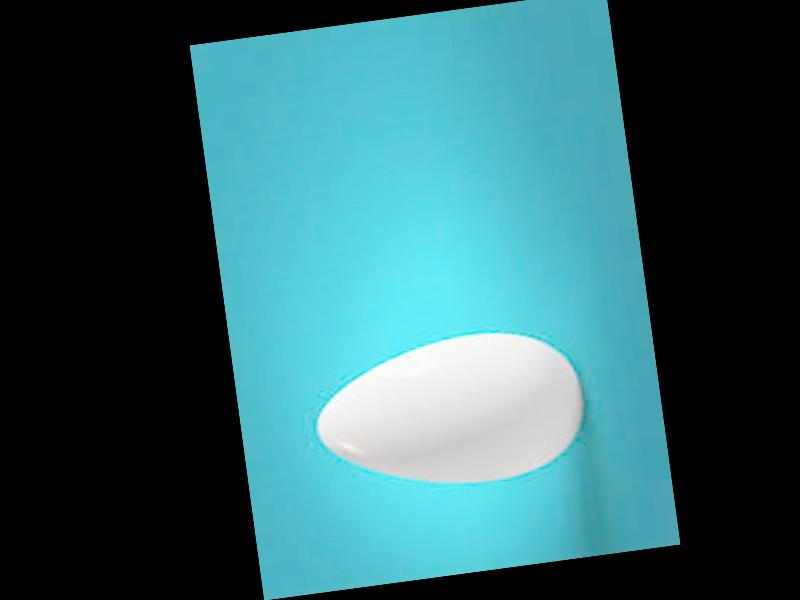Eggs: (309, 321, 592, 503)
